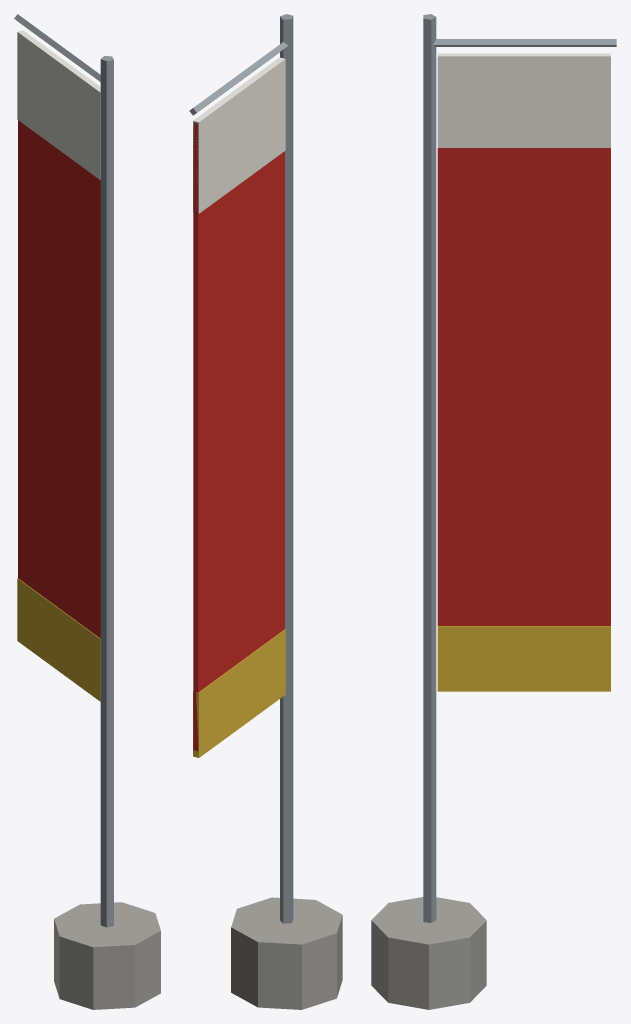
File: nobori.glb
3 renders of one model, left to right at view 1: azimuth 30°, elevation 25°; view 2: azimuth 150°, elevation 25°; view 3: azimuth 270°, elevation 25°, orthographic. The views are drawn at different scales.
Parts seen in each view (by area): view 1: nobori; view 2: nobori; view 3: nobori.
Boxes of the visible parts, bbox=[...] form: nobori: bbox=[14, 14, 160, 1009]; nobori: bbox=[189, 14, 342, 1009]; nobori: bbox=[371, 14, 616, 1009].
Size of the model in its own units: 0.4 by 3.71 by 0.85.
